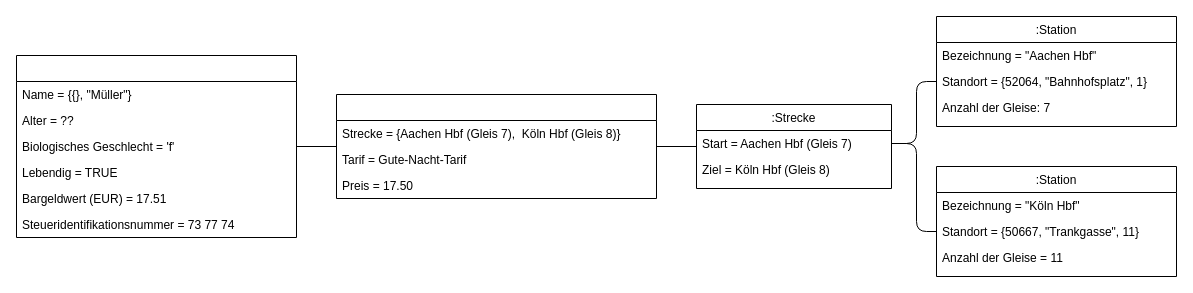
The diagram is 1193 pixels wide and 293 high, and some of its shapes have lost their labels. Here are the shapes that lost their labels. From the top down, the box of each, then its label:
(16, 54, 296, 238): Müller:Kunde/ Reisender
(336, 94, 656, 198): :Einzelfahrkarte
